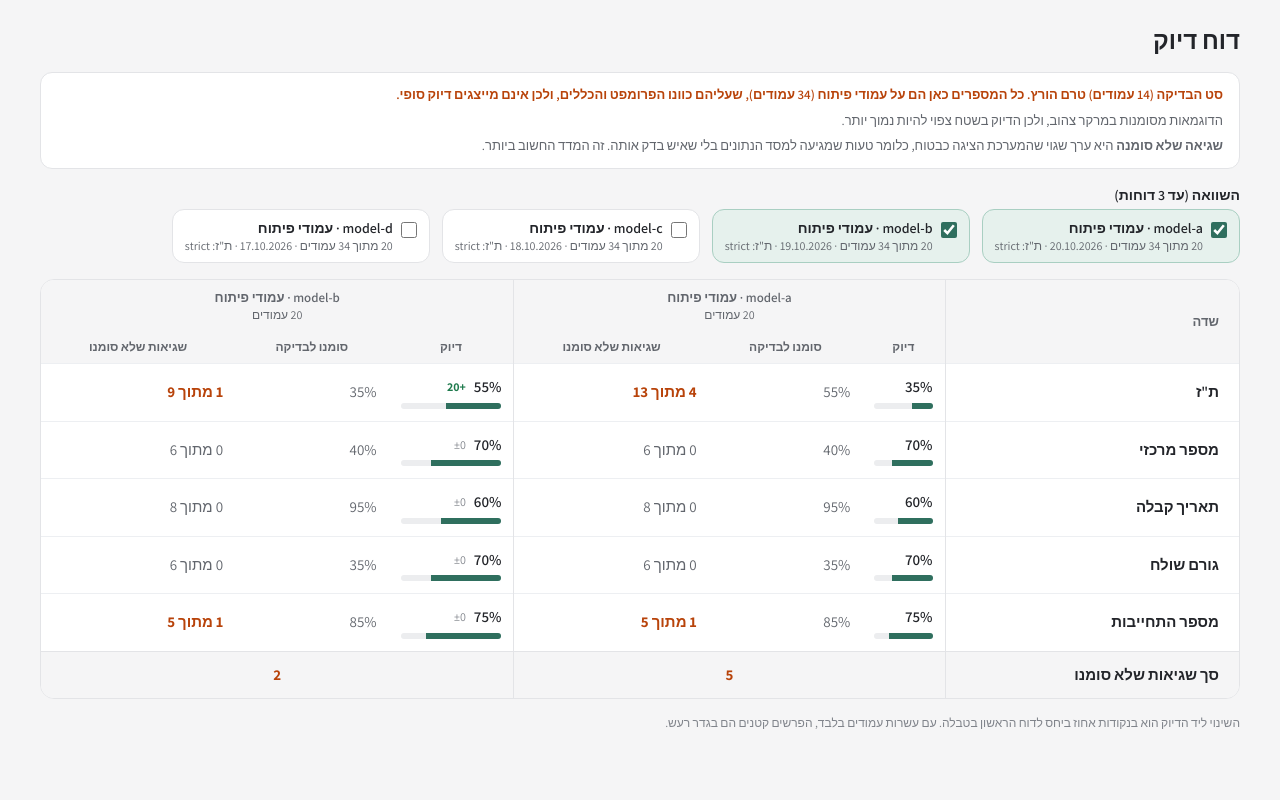
AccuracyView: comparing reports › compares at most three reports at once: choosing a fourth drops the oldest choice
expect the heading "דוח דיוק" is shown: met, box [1153,24,1240,56]
Click the checkbox labelled "model-c" at coordinates (679, 230), box [671,222,687,238]
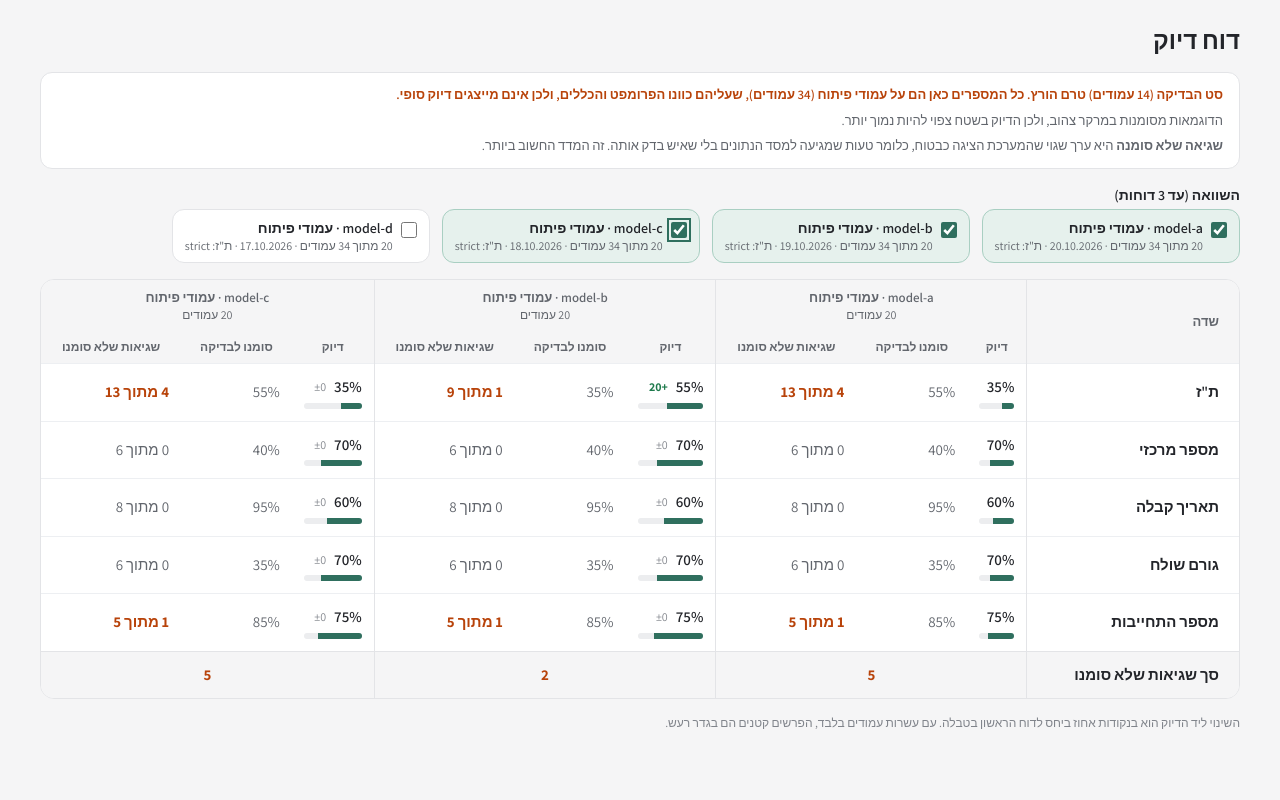
expect the number of column headings "model-a · עמודי פיתוח 20 עמודים" is 3: met, box [716,280,1027,331]; [374,280,716,331]; [41,280,374,331]
Click the checkbox labelled "model-d" at coordinates (409, 230), box [401,222,417,238]
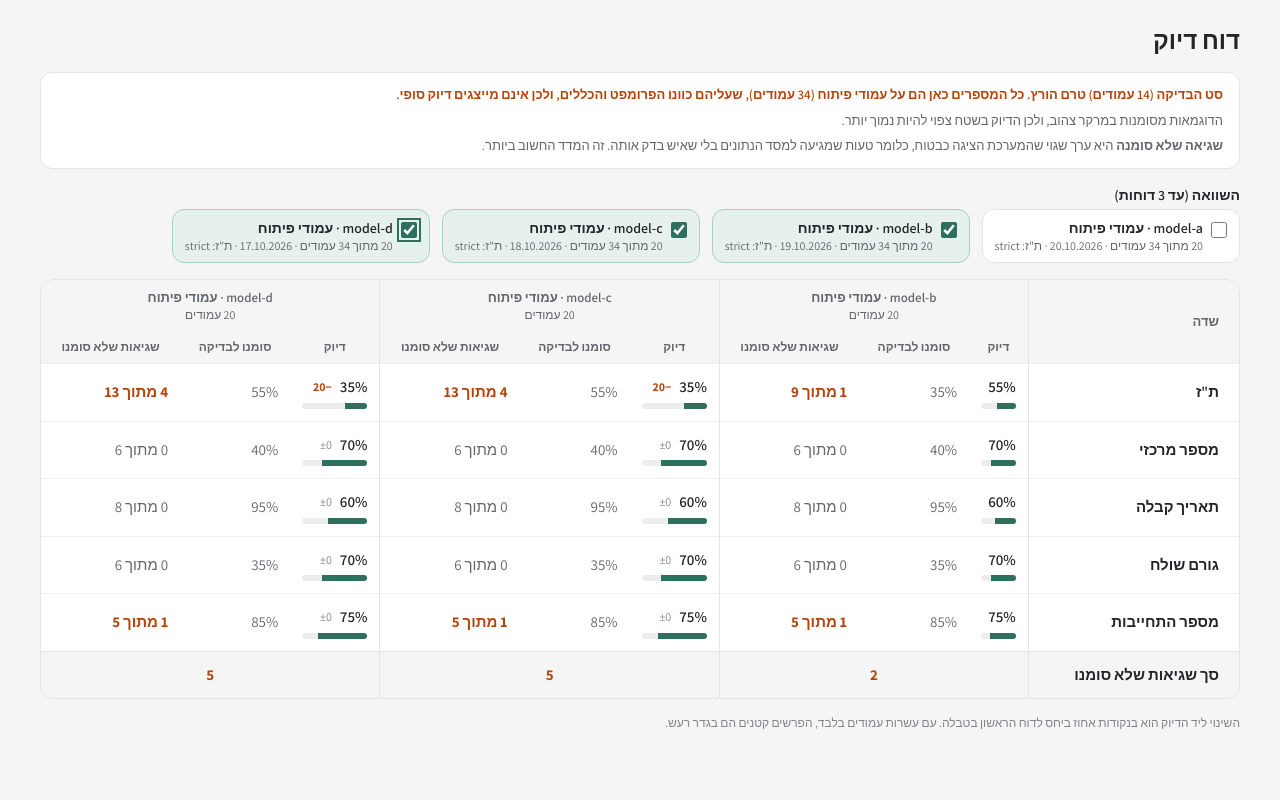
expect the number of column headings "model-b · עמודי פיתוח 20 עמודים" is 3: met, box [719,280,1028,331]; [380,280,719,331]; [41,280,380,331]
expect the column heading "model-d · עמודי פיתוח 20 עמודים" is shown: met, box [41,280,380,331]
